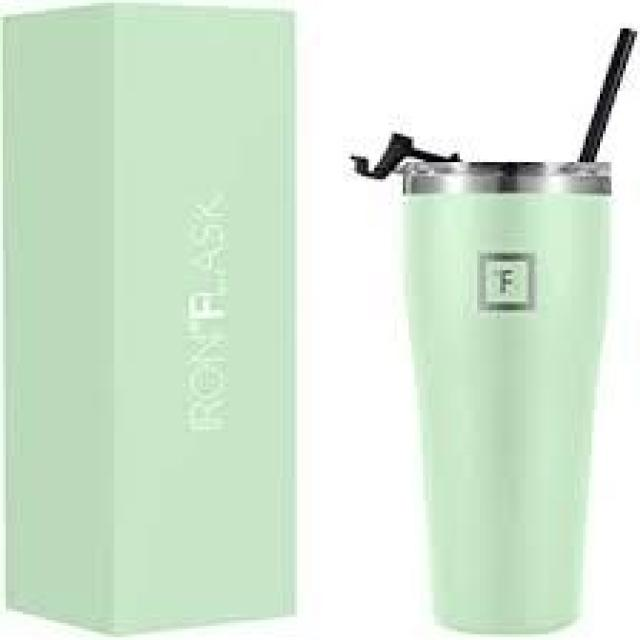bottle: (407, 31, 636, 632)
